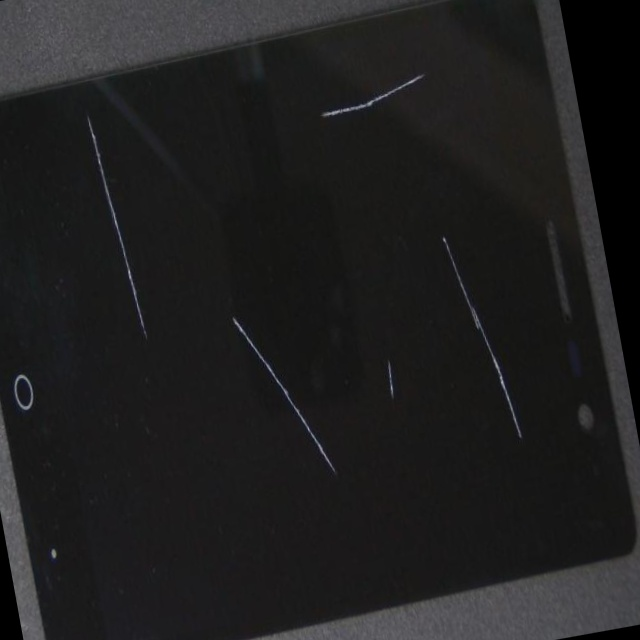scratch: (154, 79, 621, 586), (189, 36, 616, 382), (201, 301, 526, 640), (194, 0, 576, 156), (39, 206, 264, 462)
